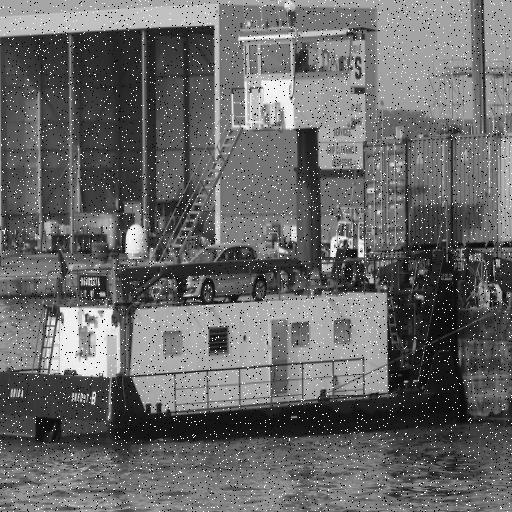tugboat: (1, 1, 450, 455)
